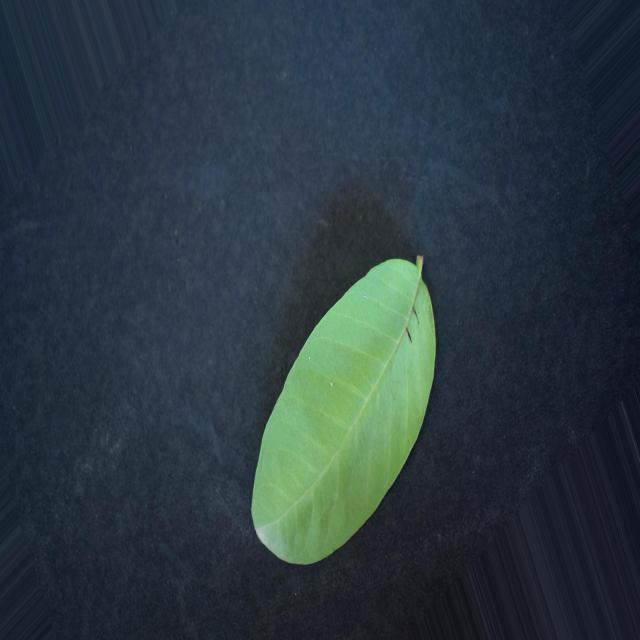Healthy: (251, 259, 435, 564)
